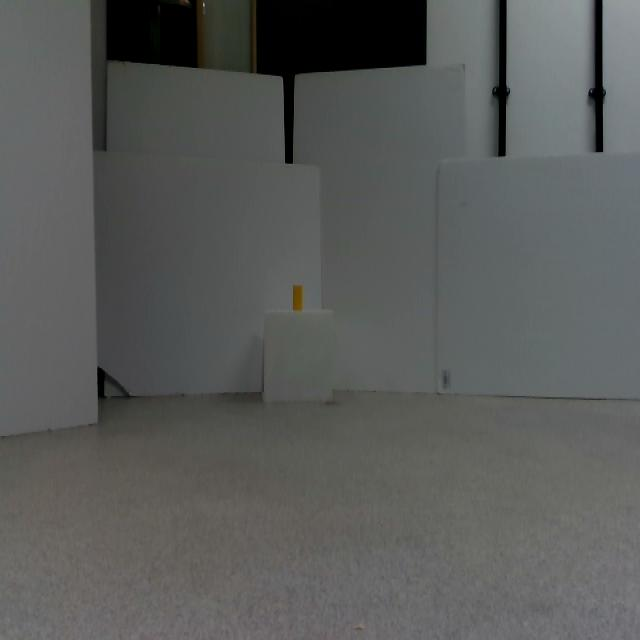yellow_cylinder: (292, 285, 302, 311)
